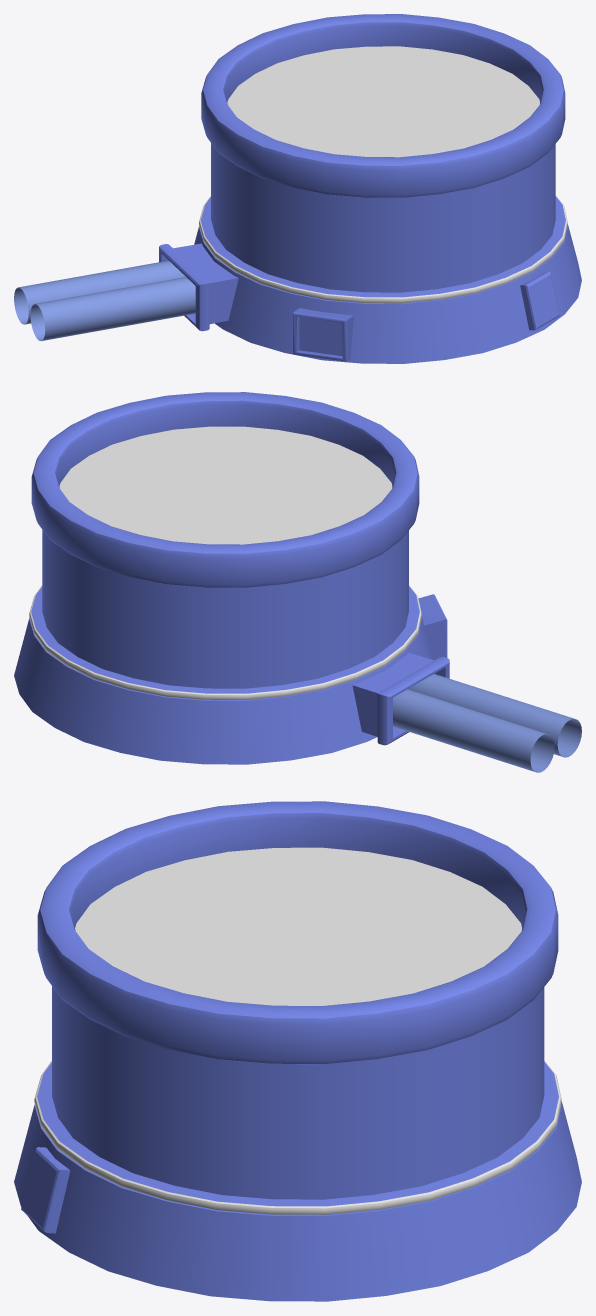
File: mixPlace.fbx
3 renders of one model, top to bottom at view 1: azimuth 30°, elevation 25°; view 2: azimuth 150°, elevation 25°; view 3: azimuth 270°, elevation 25°, orthographic. The views are drawn at different scales.
Parts seen in each view (by area): view 1: MixPlace, MixEffectMesh, Cables, LightPanel; view 2: MixPlace, MixEffectMesh, Cables, LightPanel; view 3: MixPlace, MixEffectMesh, LightPanel.
Part boxes in pixels (left/top/right/bottom): MixPlace: left=159, top=14, right=581, bottom=363; MixEffectMesh: left=227, top=46, right=539, bottom=157; Cables: left=14, top=260, right=195, bottom=340; LightPanel: left=199, top=195, right=567, bottom=303; MixPlace: left=14, top=392, right=449, bottom=764; MixEffectMesh: left=59, top=426, right=392, bottom=544; Cables: left=393, top=674, right=581, bottom=772; LightPanel: left=29, top=585, right=421, bottom=699; MixPlace: left=14, top=801, right=581, bottom=1301; MixEffectMesh: left=75, top=847, right=521, bottom=1005; LightPanel: left=34, top=1060, right=561, bottom=1214.
Bounding box in the file's own units: 341 × 124 × 231.
